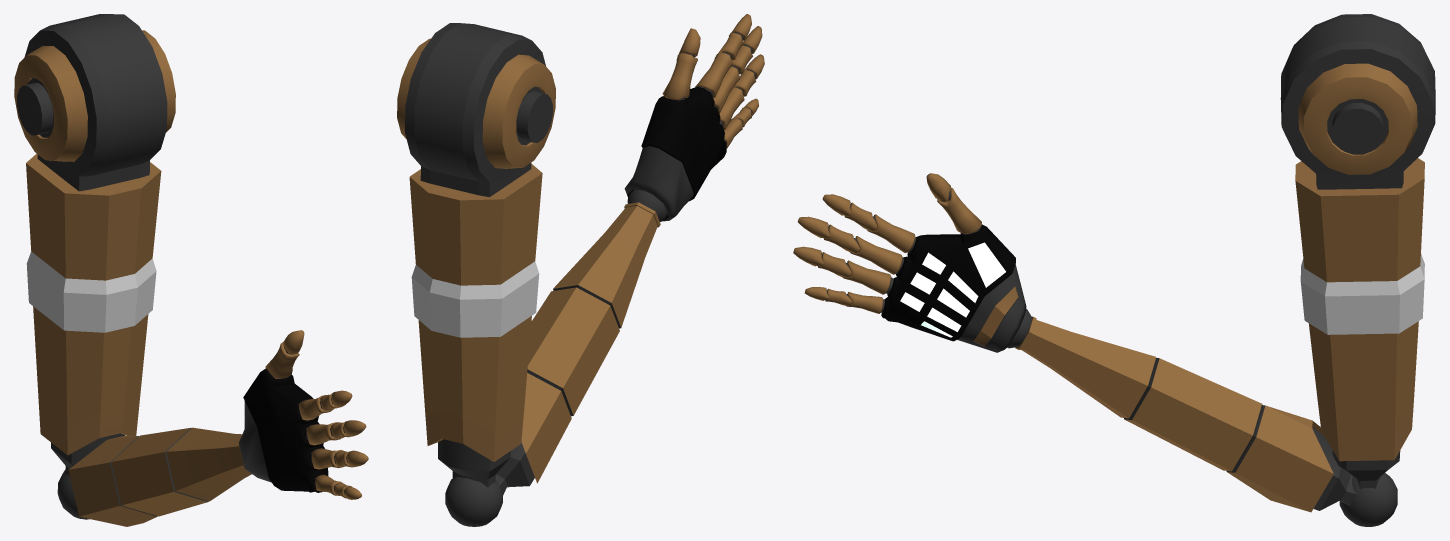
File: Arm_left.fbx
3 renders of one model, left to right at view 1: azimuth 30°, elevation 25°; view 2: azimuth 150°, elevation 25°; view 3: azimuth 270°, elevation 25°, orthographic. The views are drawn at different scales.
Parts seen in each view (by area): view 1: Arm_left; view 2: Arm_left; view 3: Arm_left.
Boxes of the visible parts, x1,y1,x2,y2 form: Arm_left: (14, 14, 368, 526); Arm_left: (397, 14, 764, 526); Arm_left: (793, 14, 1435, 526).
Size of the model in its own units: 0.1121 by 0.4044 by 0.474.
